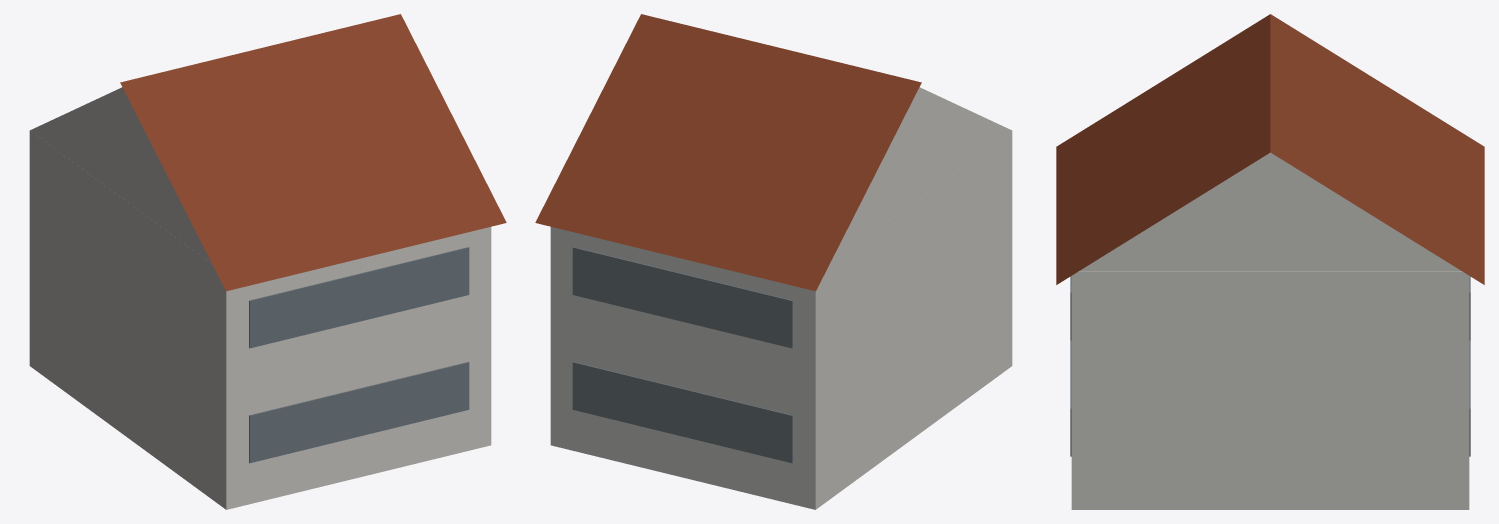
The model's file is cove-house-white.tone-v1.lod2.glb.
The picture shows the model from 3 angles, left to right: view 1: azimuth 30°, elevation 25°; view 2: azimuth 150°, elevation 25°; view 3: azimuth 270°, elevation 25°; orthographic projection.
Parts seen in each view (by area): view 1: cove-house-white; view 2: cove-house-white; view 3: cove-house-white.
Boxes of the visible parts, bbox=[...] form: cove-house-white: bbox=[29, 14, 506, 509]; cove-house-white: bbox=[535, 14, 1012, 509]; cove-house-white: bbox=[1056, 14, 1484, 509].
Size of the model in its own units: 7.42 by 9.03 by 9.7.
